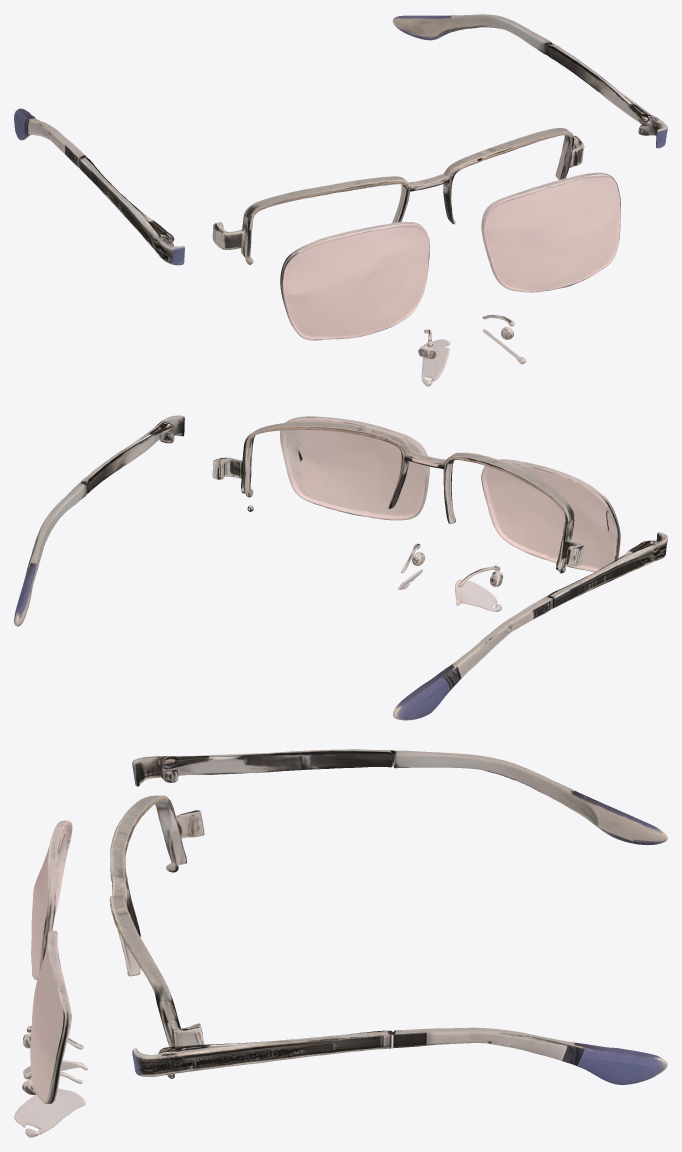
File: eyeglasses_exploded.glb
The picture shows the model from 3 angles, top to bottom: view 1: azimuth 30°, elevation 25°; view 2: azimuth 150°, elevation 25°; view 3: azimuth 270°, elevation 25°; orthographic projection. The views are drawn at different scales.
Visible parts, largest first — view 1: world; view 2: world; view 3: world.
Boxes of the visible parts, box(x1,y1,x2,y2) form: world: box(14, 14, 667, 386); world: box(14, 415, 667, 720); world: box(14, 749, 667, 1137).
Size of the model in its own units: 1.99 by 0.7021 by 1.83.
1 material, 1 textured.
